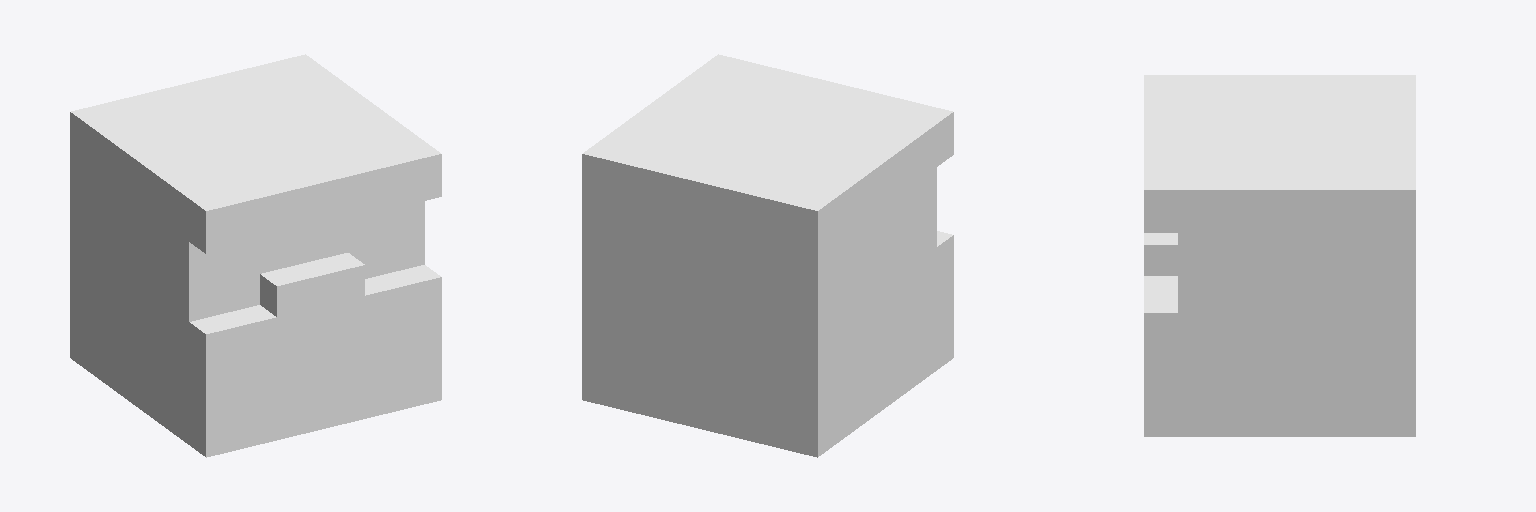
Rendered from bumped_Hall_V2.obj.
The picture shows the model from 3 angles: view 1: azimuth 30°, elevation 25°; view 2: azimuth 150°, elevation 25°; view 3: azimuth 270°, elevation 25°; orthographic projection.
Visible parts, largest first — view 1: bumped_Hall_V2; view 2: bumped_Hall_V2; view 3: bumped_Hall_V2.
Part boxes in pixels (x1,y1,x2,y2): bumped_Hall_V2: (70,54,441,457); bumped_Hall_V2: (582,54,953,457); bumped_Hall_V2: (1144,75,1415,436).
Bounding box in the file's own units: 40 × 40 × 40.